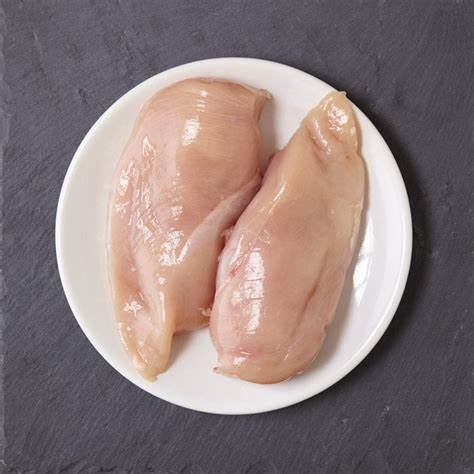Chicken: (89, 69, 273, 393), (205, 83, 368, 398)
